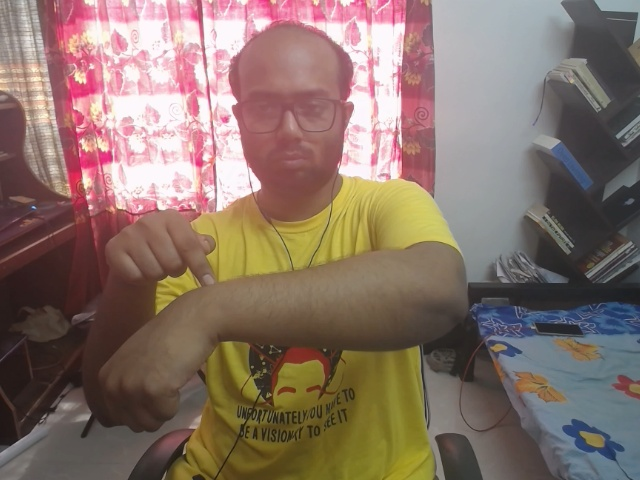time: (65, 189, 269, 435)
